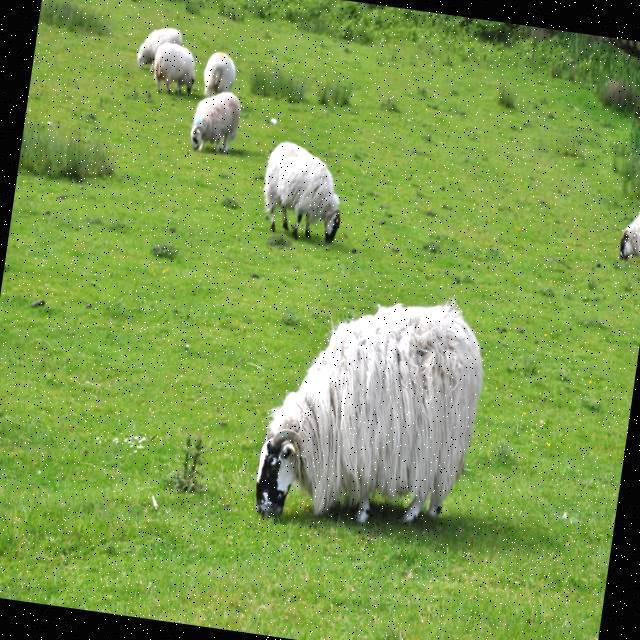sheep: (257, 300, 484, 523), (264, 141, 341, 242), (191, 91, 241, 150), (155, 42, 196, 94), (139, 27, 182, 70), (620, 213, 640, 260)
